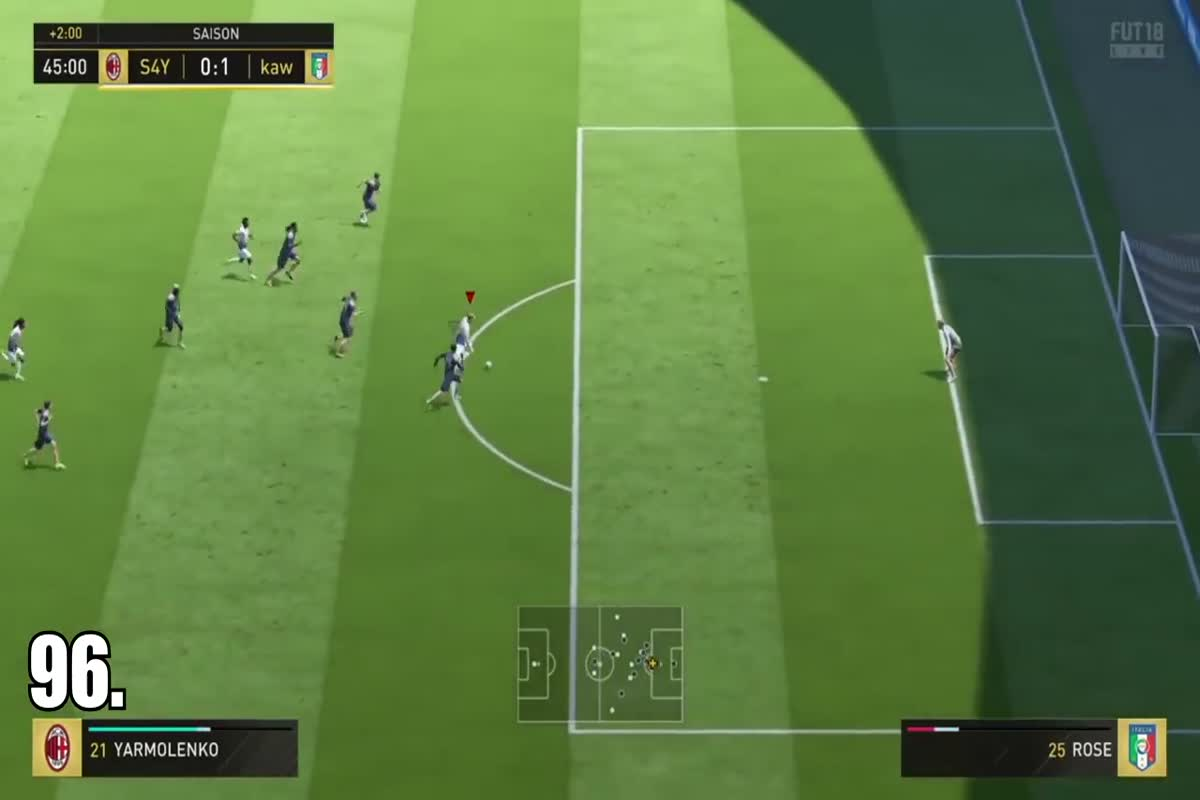ball: (478, 352, 503, 376)
